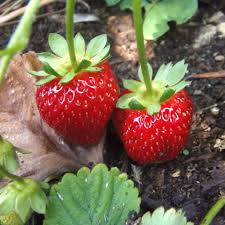ripe: (32, 53, 118, 152), (111, 72, 195, 166)
